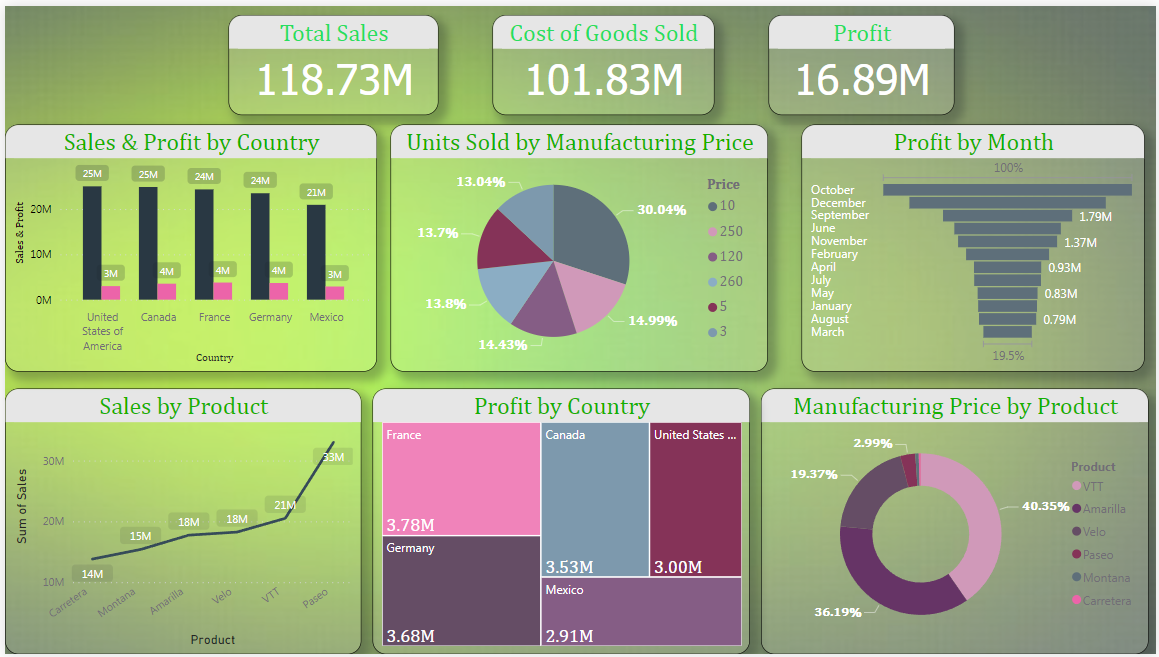

This screenshot's page, from the dashboard's own definition file:
{"tool":"powerbi","page":{"name":"Page 1","canvas":[1280,720],"ordinal":0},"visuals":[{"type":"card","title":"Profit","fields":{"Values":["Sum(Sheet1.Profit)"]},"box":[848.7,9.5,206.6,111.3],"z":0},{"type":"card","title":"Total Sales","fields":{"Values":["Sum(Sheet1. Sales)"]},"box":[247.9,9.5,233.6,111.3],"z":1000},{"type":"card","title":"Cost of Goods Sold","fields":{"Values":["Sum(Sheet1.COGS)"]},"box":[542,9.5,246.4,111.3],"z":2000},{"type":"lineChart","title":"Sales by Product","fields":{"Category":["Sheet1.Product"],"Y":["Sum(Sheet1. Sales)"]},"box":[0,424.4,395.8,295.6],"z":3000},{"type":"funnel","title":"Profit by Month","fields":{"Category":["Sheet1.Month Name"],"Y":["Sum(Sheet1.Profit)"]},"box":[885.3,131.9,381.5,275],"z":4000},{"type":"clusteredColumnChart","title":"Sales & Profit by Country","fields":{"Category":["Sheet1.Country"],"Y":["Sum(Sheet1. Sales)","Sum(Sheet1.Profit)"]},"box":[0,131.9,413.2,275],"z":5000},{"type":"donutChart","title":"Manufacturing Price by Product","fields":{"Y":["Sum(Sheet1.Manufacturing Price)"],"Category":["Sheet1.Product"]},"box":[839.2,424.4,430.7,295.6],"z":6000},{"type":"pieChart","title":"Units Sold by Manufacturing Price","fields":{"Category":["Sheet1.Manufacturing Price"],"Y":["Sum(Sheet1.Units Sold)"]},"box":[429.1,131.9,419.6,275],"z":7000},{"type":"treemap","title":"Profit by Country","fields":{"Group":["Sheet1.Country"],"Values":["Sum(Sheet1.Profit)"]},"box":[408.5,424.4,419.6,295.6],"z":8000}]}

Visuals, with their boxes in screenshot pixels (x1, y1, x2, y2), scaled from the page's 1280x720 canvas onto the 1159x657 screenshot:
"Profit" card: bbox=[768, 9, 956, 110]
"Total Sales" card: bbox=[224, 9, 436, 110]
"Cost of Goods Sold" card: bbox=[491, 9, 714, 110]
"Sales by Product" lineChart: bbox=[0, 387, 358, 656]
"Profit by Month" funnel: bbox=[802, 120, 1147, 371]
"Sales & Profit by Country" clusteredColumnChart: bbox=[0, 120, 374, 371]
"Manufacturing Price by Product" donutChart: bbox=[760, 387, 1150, 656]
"Units Sold by Manufacturing Price" pieChart: bbox=[389, 120, 768, 371]
"Profit by Country" treemap: bbox=[370, 387, 750, 656]
